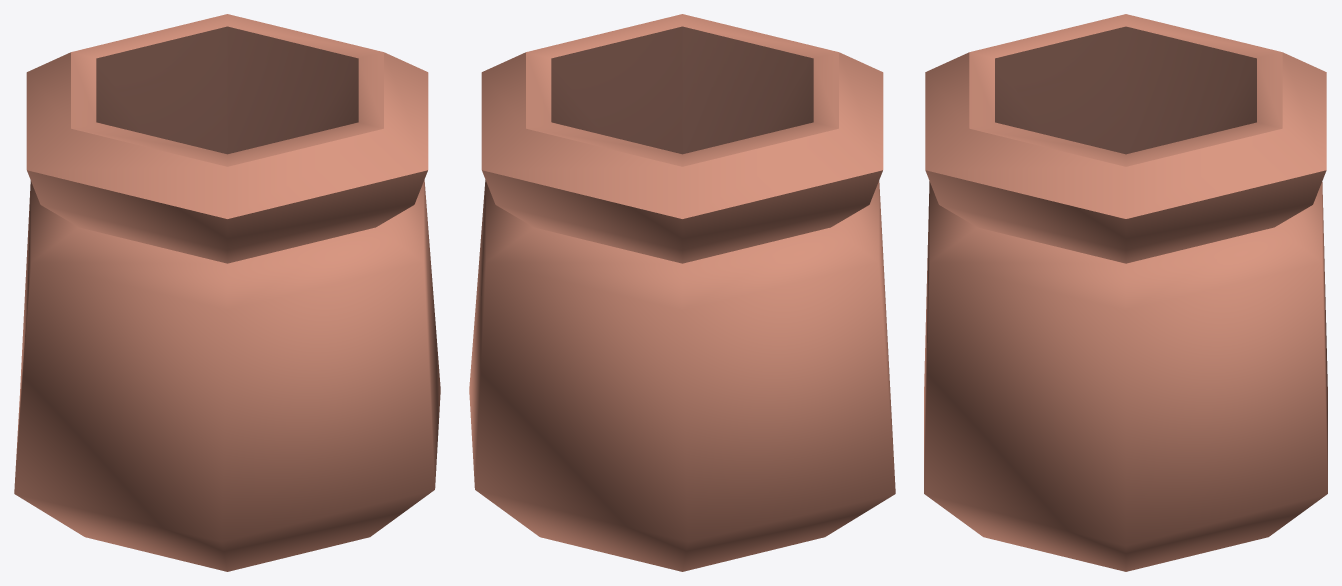
Rendered from jug_004.glb.
3 views of the same model, side by side, from view 1: azimuth 30°, elevation 25°; view 2: azimuth 150°, elevation 25°; view 3: azimuth 270°, elevation 25° (orthographic).
Parts seen in each view (by area): view 1: jug_004; view 2: jug_004; view 3: jug_004.
Boxes of the visible parts, left/top/right/bottom form: jug_004: left=14, top=14, right=440, bottom=571; jug_004: left=469, top=14, right=895, bottom=571; jug_004: left=924, top=14, right=1327, bottom=571.
Bounding box in the file's own units: 0.3624 × 0.3344 × 0.2971.
Materials: 1 (1 with a texture image).
